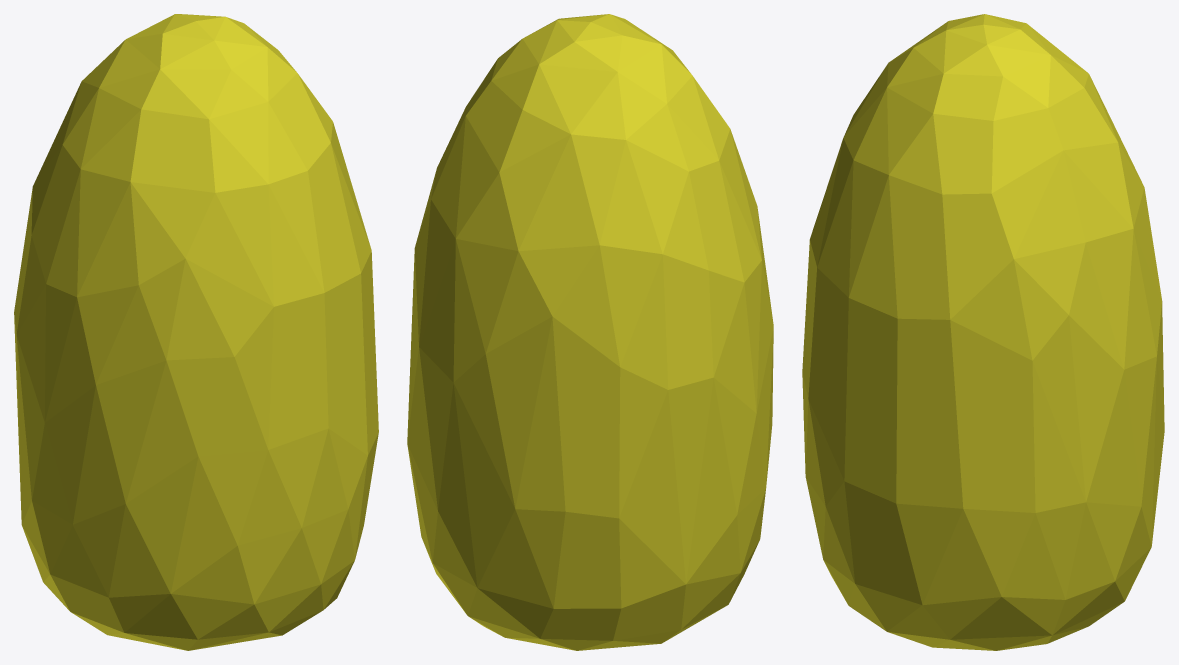
Rendered from Plant_5.fbx.
3 views of the same model, side by side, from view 1: azimuth 30°, elevation 25°; view 2: azimuth 150°, elevation 25°; view 3: azimuth 270°, elevation 25° (orthographic).
Visible parts, largest first — view 1: Plant_5; view 2: Plant_5; view 3: Plant_5.
Boxes of the visible parts, x1=… form: Plant_5: x1=14, y1=14, x2=378, y2=650; Plant_5: x1=407, y1=14, x2=773, y2=650; Plant_5: x1=802, y1=14, x2=1164, y2=650.
Size of the model in its own units: 58.02 by 105 by 57.87.
